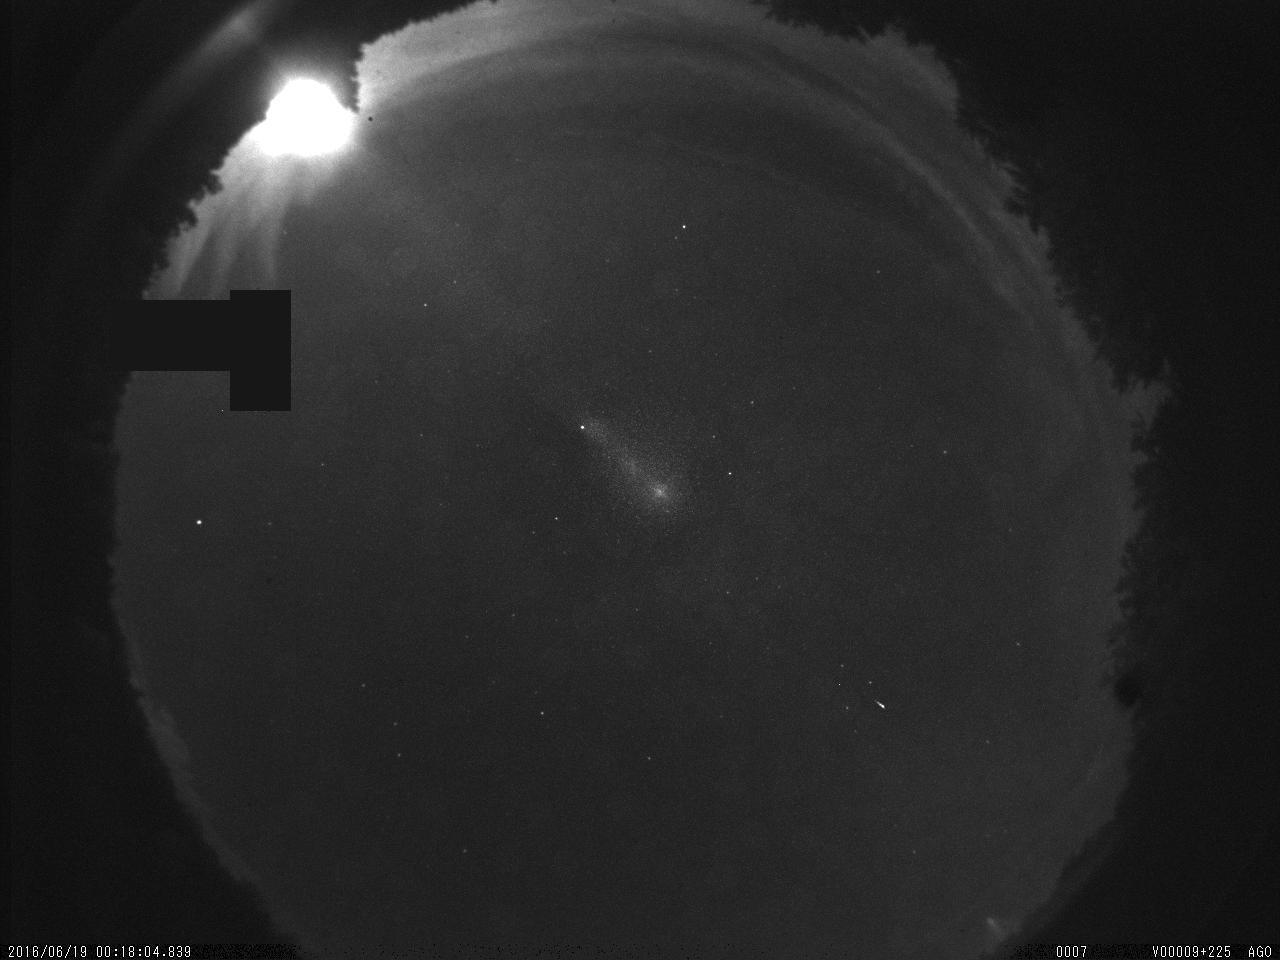Meteor: (872, 696, 892, 715)
